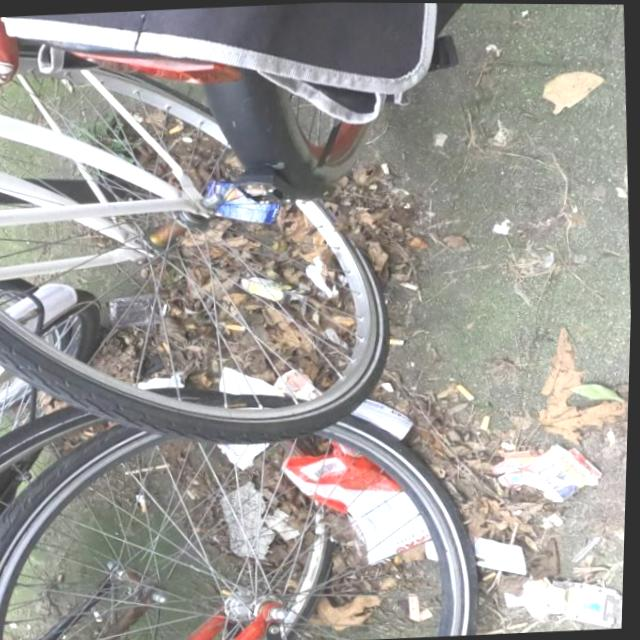Paper: (490, 438, 609, 506), (504, 571, 627, 632), (218, 361, 288, 399), (274, 365, 326, 402), (217, 441, 272, 470), (138, 370, 188, 389)
Plastic: (279, 433, 440, 569), (201, 173, 283, 226)
